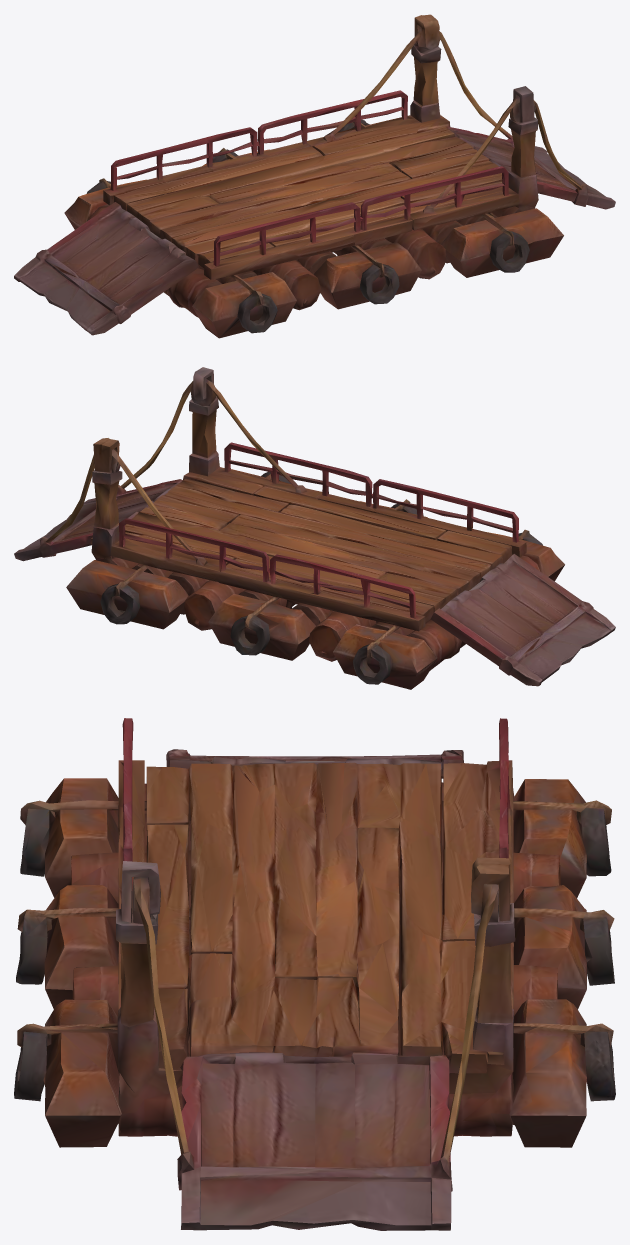
File: ferry_raft_b_idle.glb
3 renders of one model, top to bottom at view 1: azimuth 30°, elevation 25°; view 2: azimuth 150°, elevation 25°; view 3: azimuth 270°, elevation 25°, orthographic. The views are drawn at different scales.
Parts seen in each view (by area): view 1: tripo_node_65d60e9f-fe0b-49d5-86c5-fb5eed0f0aba; view 2: tripo_node_65d60e9f-fe0b-49d5-86c5-fb5eed0f0aba; view 3: tripo_node_65d60e9f-fe0b-49d5-86c5-fb5eed0f0aba.
Boxes of the visible parts, x1,y1,x2,y2 form: tripo_node_65d60e9f-fe0b-49d5-86c5-fb5eed0f0aba: [14, 14, 615, 338]; tripo_node_65d60e9f-fe0b-49d5-86c5-fb5eed0f0aba: [14, 367, 615, 689]; tripo_node_65d60e9f-fe0b-49d5-86c5-fb5eed0f0aba: [14, 718, 615, 1230].
Bounding box in the file's own units: 7 × 1.95 × 3.79.
Materials: 1 (1 with a texture image).
